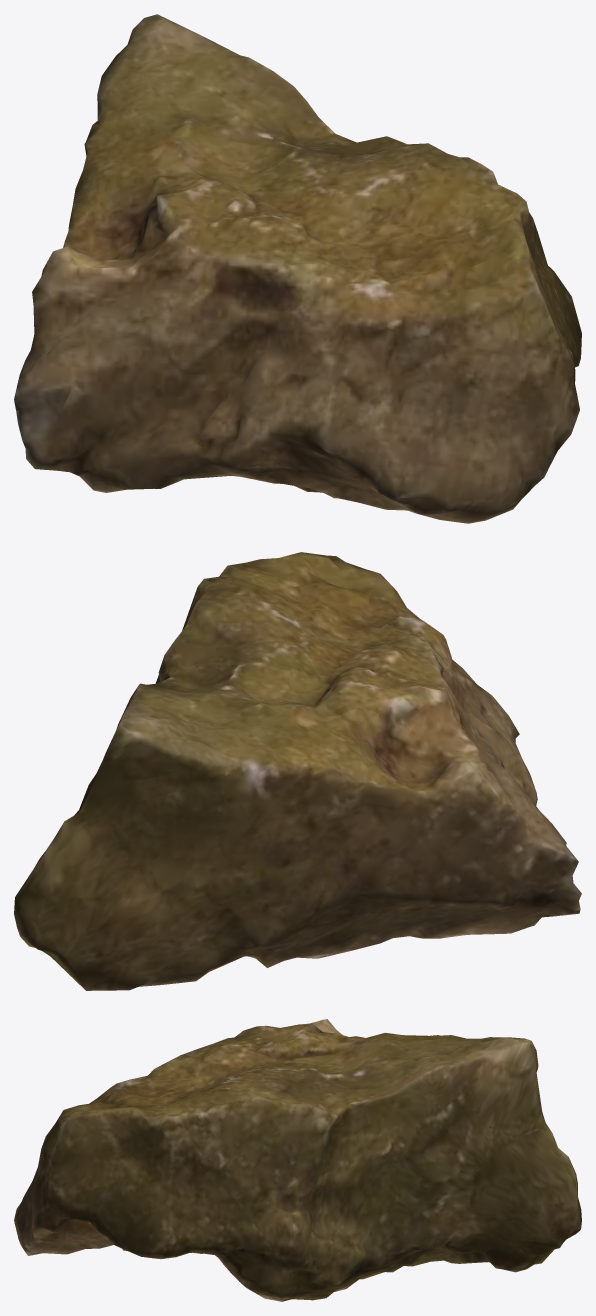
File: rock_moss_set_01-rock06.glb
3 views of the same model, one above another, from view 1: azimuth 30°, elevation 25°; view 2: azimuth 150°, elevation 25°; view 3: azimuth 270°, elevation 25° (orthographic). The views are drawn at different scales.
Visible parts, largest first — view 1: rock_moss_set_01_rock06; view 2: rock_moss_set_01_rock06; view 3: rock_moss_set_01_rock06.
Part boxes in pixels (x1,y1,x2,y2): rock_moss_set_01_rock06: [14, 14, 581, 523]; rock_moss_set_01_rock06: [14, 552, 581, 990]; rock_moss_set_01_rock06: [14, 1019, 581, 1301].
Bounding box in the file's own units: 2.13 × 1.26 × 2.76.
Materials: 1 (1 with a texture image).
